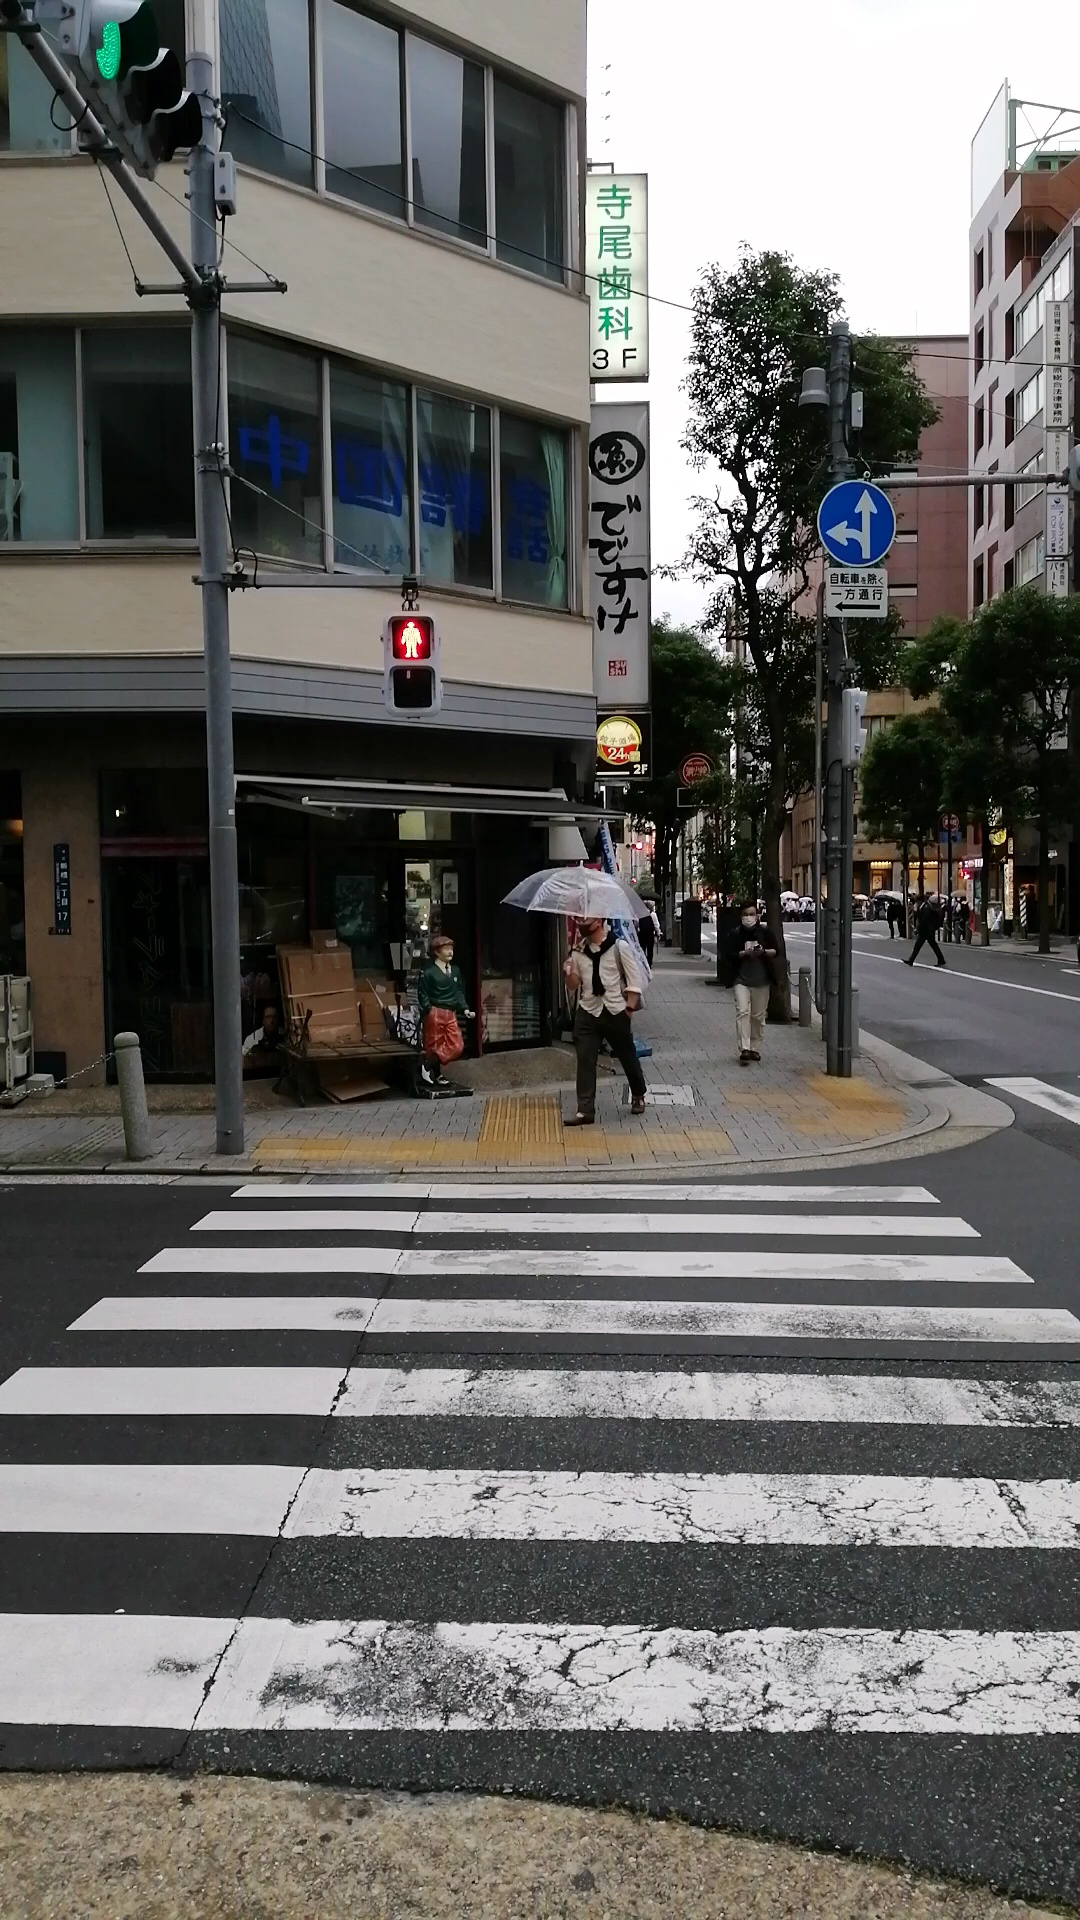red: (381, 612, 440, 717)
